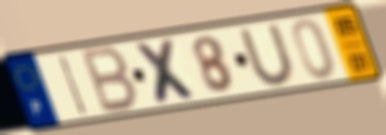0: (290, 16, 338, 82)
8: (191, 34, 236, 96)
B: (79, 44, 141, 116)
I: (57, 52, 91, 119)
U: (236, 21, 300, 87)
X: (131, 36, 203, 107)
